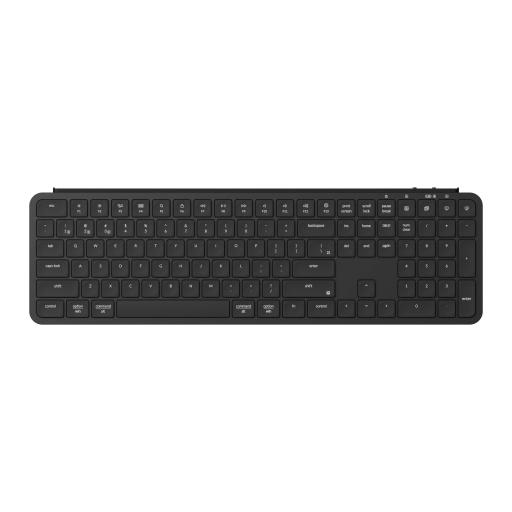keyboard: (10, 187, 491, 325)
